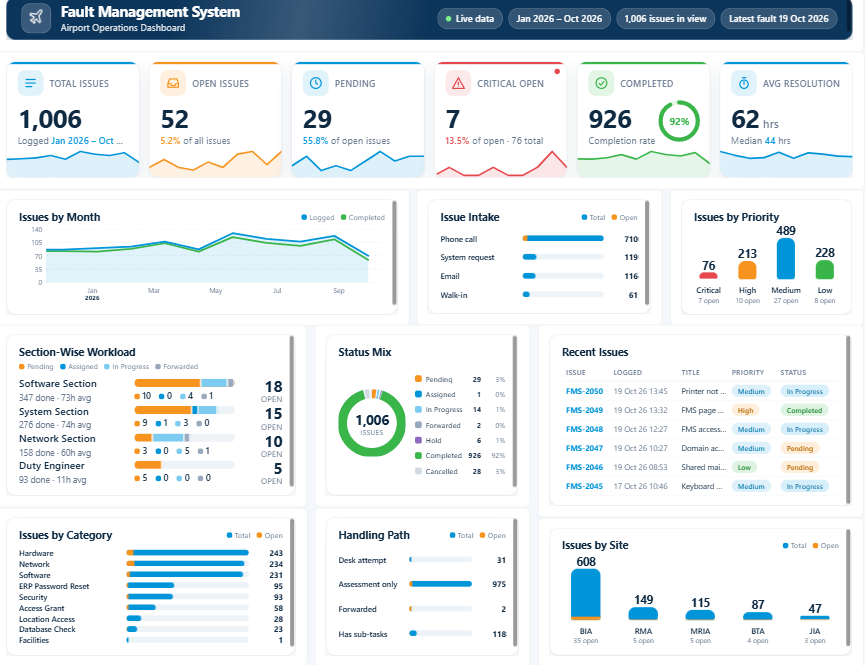

Layout of this report page (visuals, bound fields, positions):
{"tool":"powerbi","page":{"name":"Page 1","canvas":[1280,1000],"ordinal":0},"visuals":[{"type":"STANDALONEhtmlContent443BE3AD55E043BF878BED274D3A6855","fields":{"content":["tblFaults.HTML Header"]},"box":[0,0,1280,95],"z":0},{"type":"STANDALONEhtmlContent443BE3AD55E043BF878BED274D3A6855","fields":{"content":["tblFaults.HTML KPI Cards"]},"box":[0,95.4,1280.5,203.4],"z":1000},{"type":"STANDALONEhtmlContent443BE3AD55E043BF878BED274D3A6855","fields":{"content":["tblFaults.HTML Monthly Trend"]},"box":[0,297.7,610.3,201.1],"z":2000},{"type":"STANDALONEhtmlContent443BE3AD55E043BF878BED274D3A6855","fields":{"content":["tblFaults.HTML Issue Intake"]},"box":[620.7,297.6,362.2,200],"z":3000},{"type":"STANDALONEhtmlContent443BE3AD55E043BF878BED274D3A6855","fields":{"content":["tblFaults.HTML Priority Chart"]},"box":[993.9,297.6,285.4,201.2],"z":4000},{"type":"STANDALONEhtmlContent443BE3AD55E043BF878BED274D3A6855","fields":{"content":["tblFaults.HTML Section Workload"]},"box":[0,497.1,459.5,269.5],"z":5000},{"type":"STANDALONEhtmlContent443BE3AD55E043BF878BED274D3A6855","fields":{"content":["tblFaults.HTML Category Bars"]},"box":[0,765.9,459.8,235.4],"z":6000},{"type":"STANDALONEhtmlContent443BE3AD55E043BF878BED274D3A6855","fields":{"content":["tblFaults.HTML Recent Issues"]},"box":[800,497.6,479.3,284.1],"z":7000},{"type":"STANDALONEhtmlContent443BE3AD55E043BF878BED274D3A6855","fields":{"content":["tblFaults.HTML Site Bars"]},"box":[800,781.7,479.3,219.5],"z":8000},{"type":"STANDALONEhtmlContent443BE3AD55E043BF878BED274D3A6855","fields":{"content":["tblFaults.HTML Status Donut"]},"box":[471.2,497.5,317.5,268.8],"z":9000},{"type":"STANDALONEhtmlContent443BE3AD55E043BF878BED274D3A6855","fields":{"content":["tblFaults.HTML Handling Path"]},"box":[470.7,765.9,318.3,235.4],"z":9001}]}

Visuals, with their boxes in screenshot pixels (x1, y1, x2, y2), scaled from the page's 1280x1000 canvas onto the 865x665 screenshot:
STANDALONEhtmlContent443BE3AD55E043BF878BED274D3A6855 - tblFaults.HTML Header: pyautogui.locateOnScreen(0, 0, 864, 63)
STANDALONEhtmlContent443BE3AD55E043BF878BED274D3A6855 - tblFaults.HTML KPI Cards: pyautogui.locateOnScreen(0, 63, 864, 199)
STANDALONEhtmlContent443BE3AD55E043BF878BED274D3A6855 - tblFaults.HTML Monthly Trend: pyautogui.locateOnScreen(0, 198, 412, 332)
STANDALONEhtmlContent443BE3AD55E043BF878BED274D3A6855 - tblFaults.HTML Issue Intake: pyautogui.locateOnScreen(419, 198, 664, 331)
STANDALONEhtmlContent443BE3AD55E043BF878BED274D3A6855 - tblFaults.HTML Priority Chart: pyautogui.locateOnScreen(672, 198, 864, 332)
STANDALONEhtmlContent443BE3AD55E043BF878BED274D3A6855 - tblFaults.HTML Section Workload: pyautogui.locateOnScreen(0, 331, 311, 510)
STANDALONEhtmlContent443BE3AD55E043BF878BED274D3A6855 - tblFaults.HTML Category Bars: pyautogui.locateOnScreen(0, 509, 311, 664)
STANDALONEhtmlContent443BE3AD55E043BF878BED274D3A6855 - tblFaults.HTML Recent Issues: pyautogui.locateOnScreen(541, 331, 864, 520)
STANDALONEhtmlContent443BE3AD55E043BF878BED274D3A6855 - tblFaults.HTML Site Bars: pyautogui.locateOnScreen(541, 520, 864, 664)
STANDALONEhtmlContent443BE3AD55E043BF878BED274D3A6855 - tblFaults.HTML Status Donut: pyautogui.locateOnScreen(318, 331, 533, 510)
STANDALONEhtmlContent443BE3AD55E043BF878BED274D3A6855 - tblFaults.HTML Handling Path: pyautogui.locateOnScreen(318, 509, 533, 664)
